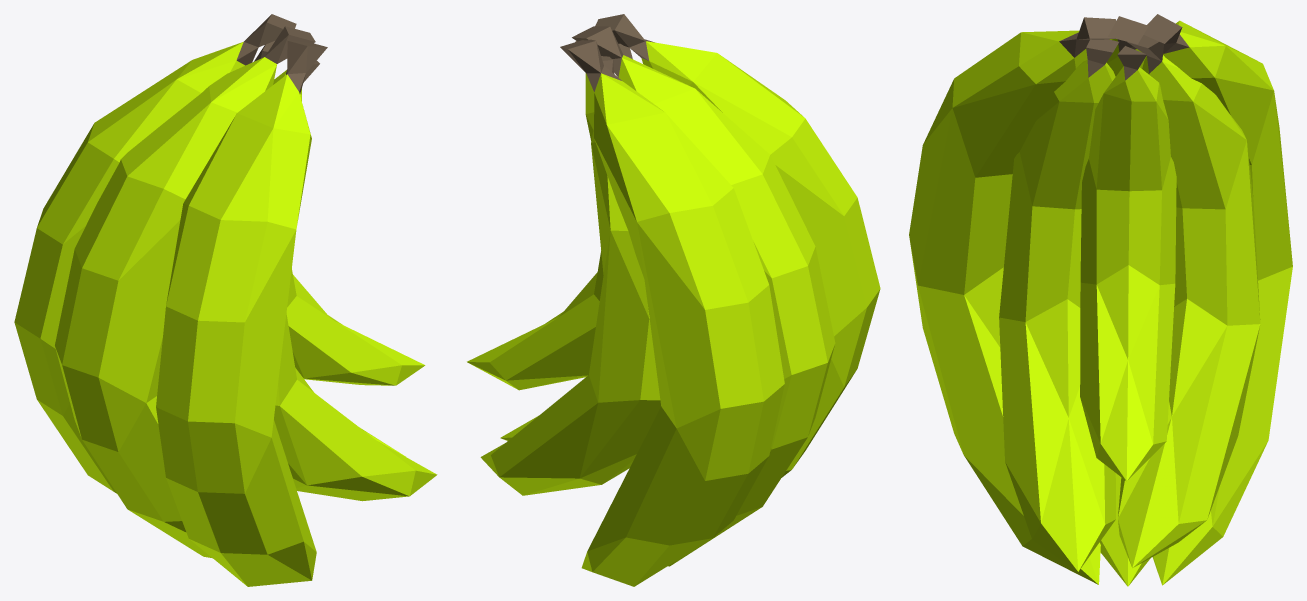
File: banana_group.glb
3 views of the same model, side by side, from view 1: azimuth 30°, elevation 25°; view 2: azimuth 150°, elevation 25°; view 3: azimuth 270°, elevation 25° (orthographic). The views are drawn at different scales.
Parts seen in each view (by area): view 1: Banana Cluster; view 2: Banana Cluster; view 3: Banana Cluster.
Boxes of the visible parts, bbox=[...] form: Banana Cluster: bbox=[14, 14, 437, 586]; Banana Cluster: bbox=[467, 14, 880, 586]; Banana Cluster: bbox=[909, 14, 1292, 586].
Bounding box in the file's own units: 0.1157 × 0.1614 × 0.0994.
Materials: 1 (1 with a texture image).
